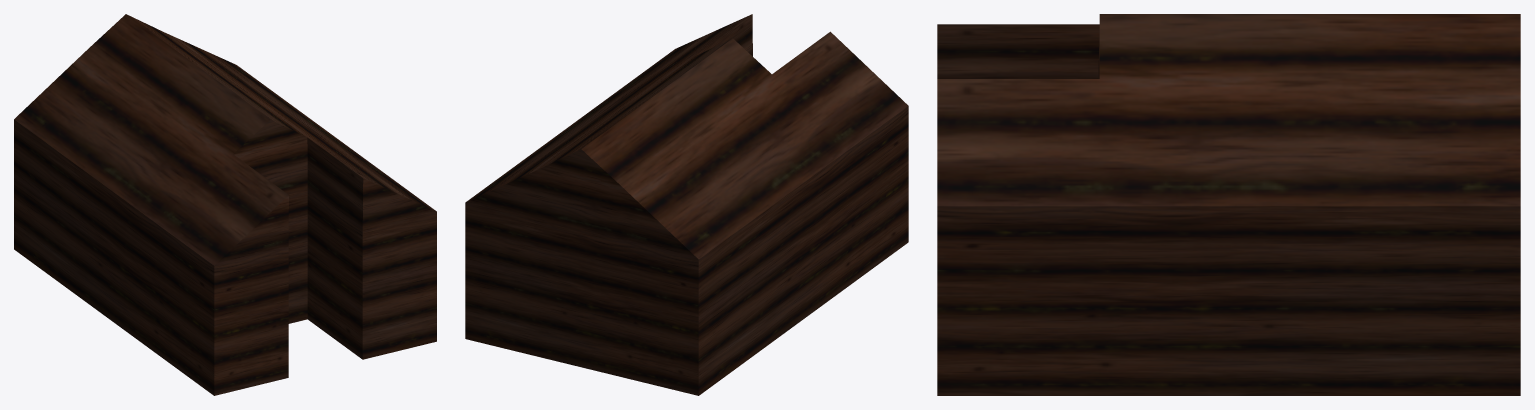
Rendered from Old_Cabin.fbx.
The picture shows the model from 3 angles, left to right: view 1: azimuth 30°, elevation 25°; view 2: azimuth 150°, elevation 25°; view 3: azimuth 270°, elevation 25°; orthographic projection. The views are drawn at different scales.
Visible parts, largest first — view 1: Old_Cabin; view 2: Old_Cabin; view 3: Old_Cabin.
Part boxes in pixels (x1,y1,x2,y2): Old_Cabin: (14,14,436,395); Old_Cabin: (465,14,908,395); Old_Cabin: (937,14,1520,395).
Size of the model in its own units: 1075 by 960 by 1674.
